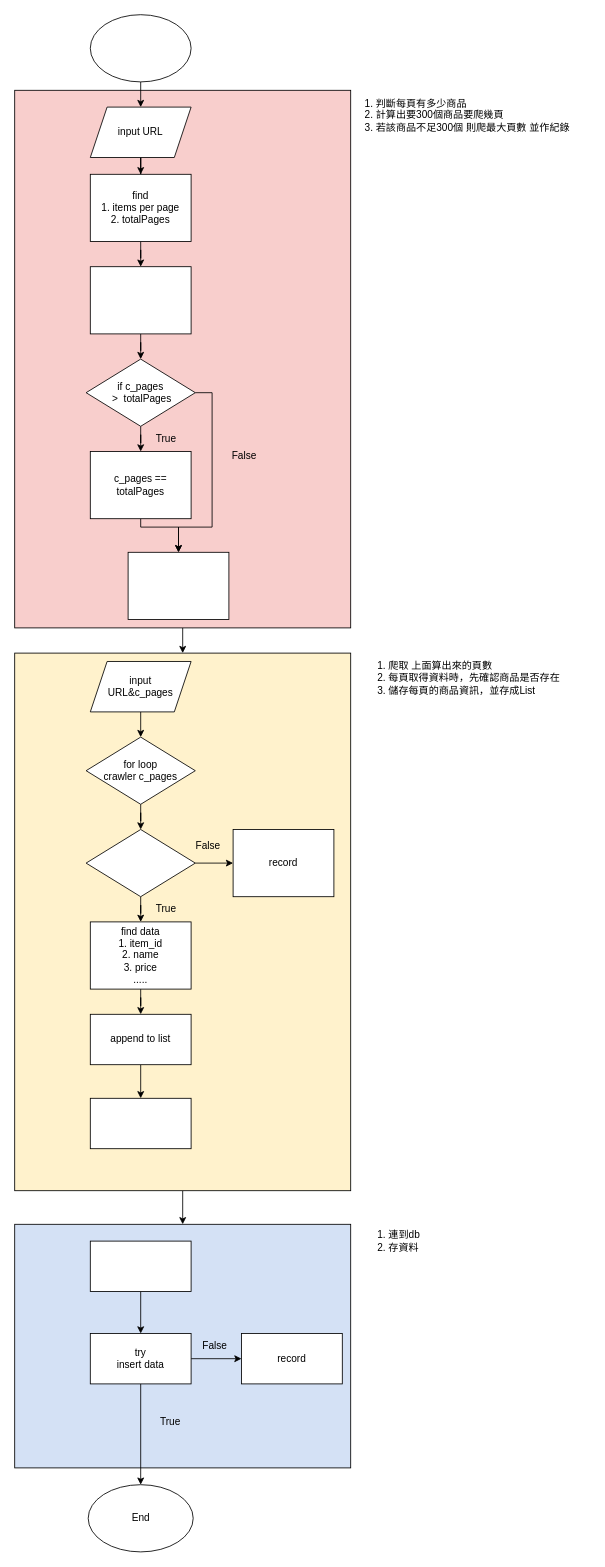
Some shapes in this 605 by 1567 pixel diagram are drawn without their labels. The centre of each missing label's shape, as x and y in pixels:
"calculate how many page need to crawler set as c_pages" goes at (x=140, y=300).
"check items exist" goes at (x=140, y=863).
"connect to database" goes at (x=140, y=1266).
"return c_pages" goes at (x=178, y=585).
"return list" goes at (x=140, y=1123).
"start" goes at (x=140, y=48).
